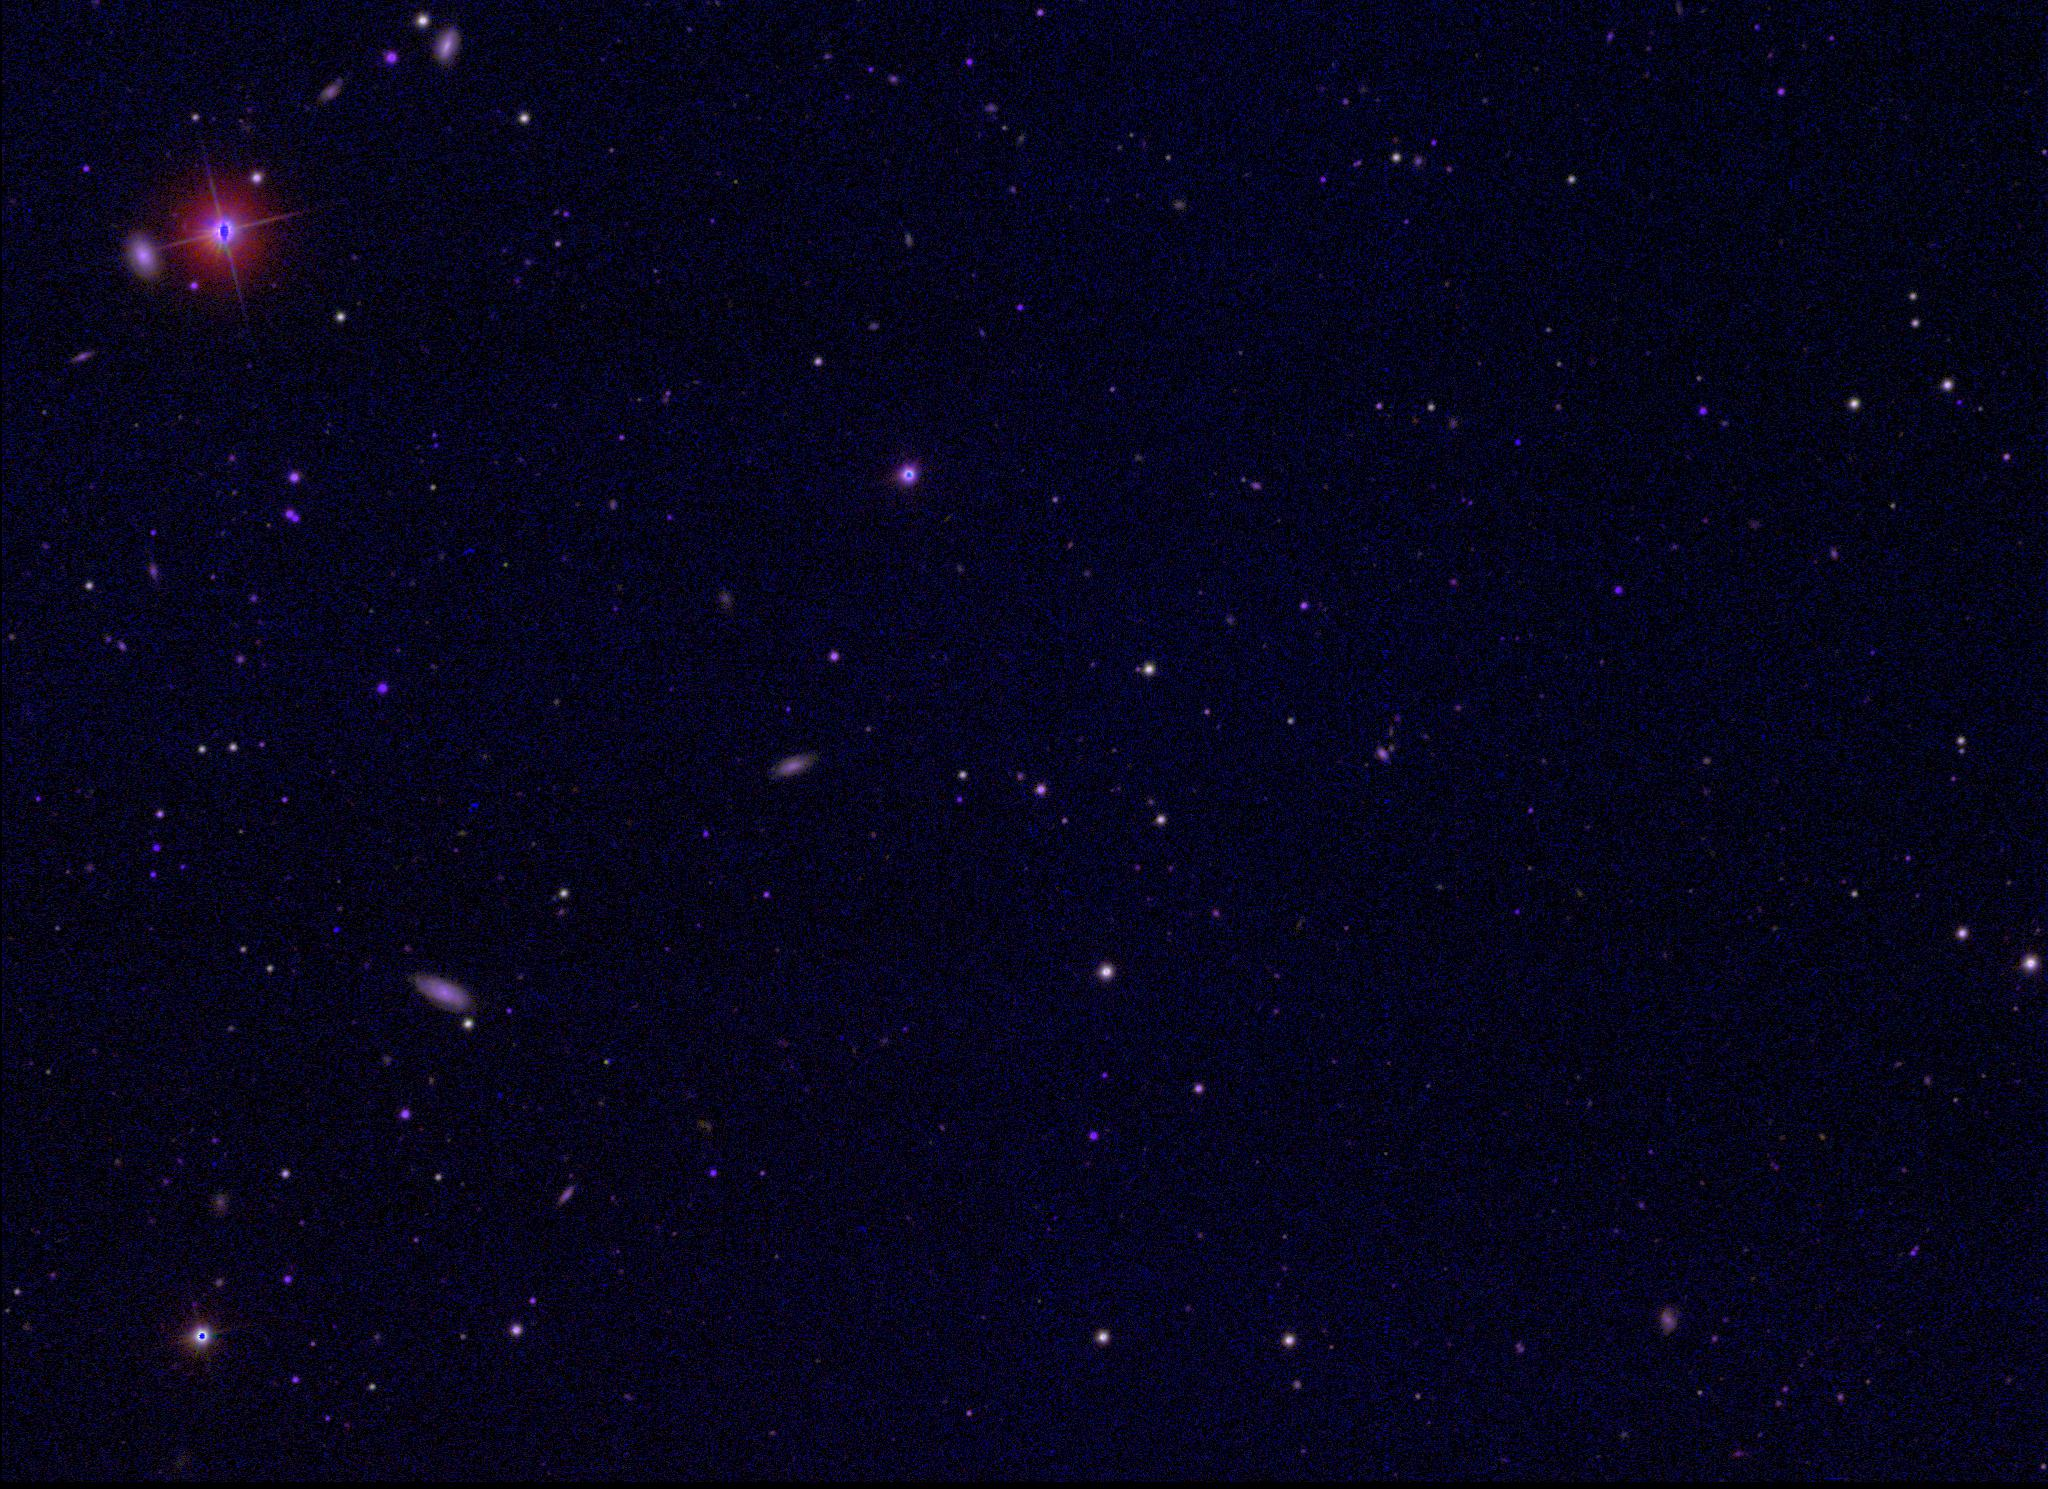L: (329, 921, 343, 935)
